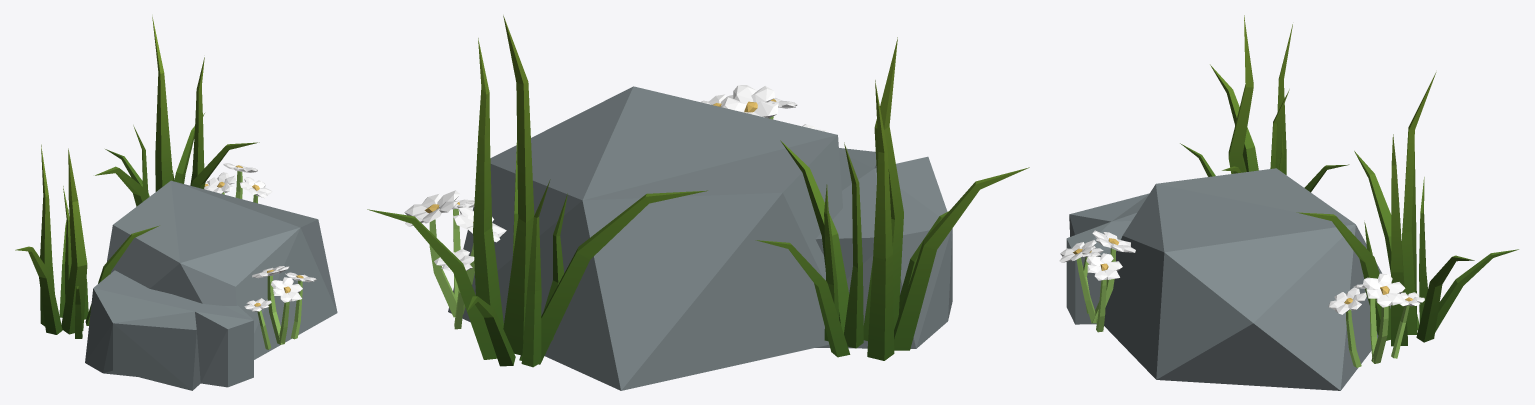
Rendered from Rock_07.fbx.
3 renders of one model, left to right at view 1: azimuth 30°, elevation 25°; view 2: azimuth 150°, elevation 25°; view 3: azimuth 270°, elevation 25°, orthographic. The views are drawn at different scales.
Parts seen in each view (by area): view 1: Rock_07; view 2: Rock_07; view 3: Rock_07.
Boxes of the visible parts, <box> form: Rock_07: <box>15,16,337,390</box>; Rock_07: <box>367,15,1029,390</box>; Rock_07: <box>1059,15,1518,390</box>.
Bounding box in the file's own units: 0.9183 × 0.6814 × 0.9594.
